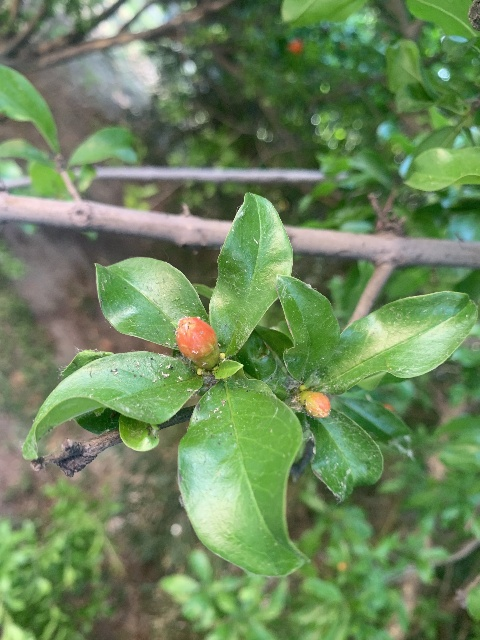bud: (176, 316, 218, 364), (300, 390, 330, 417)
